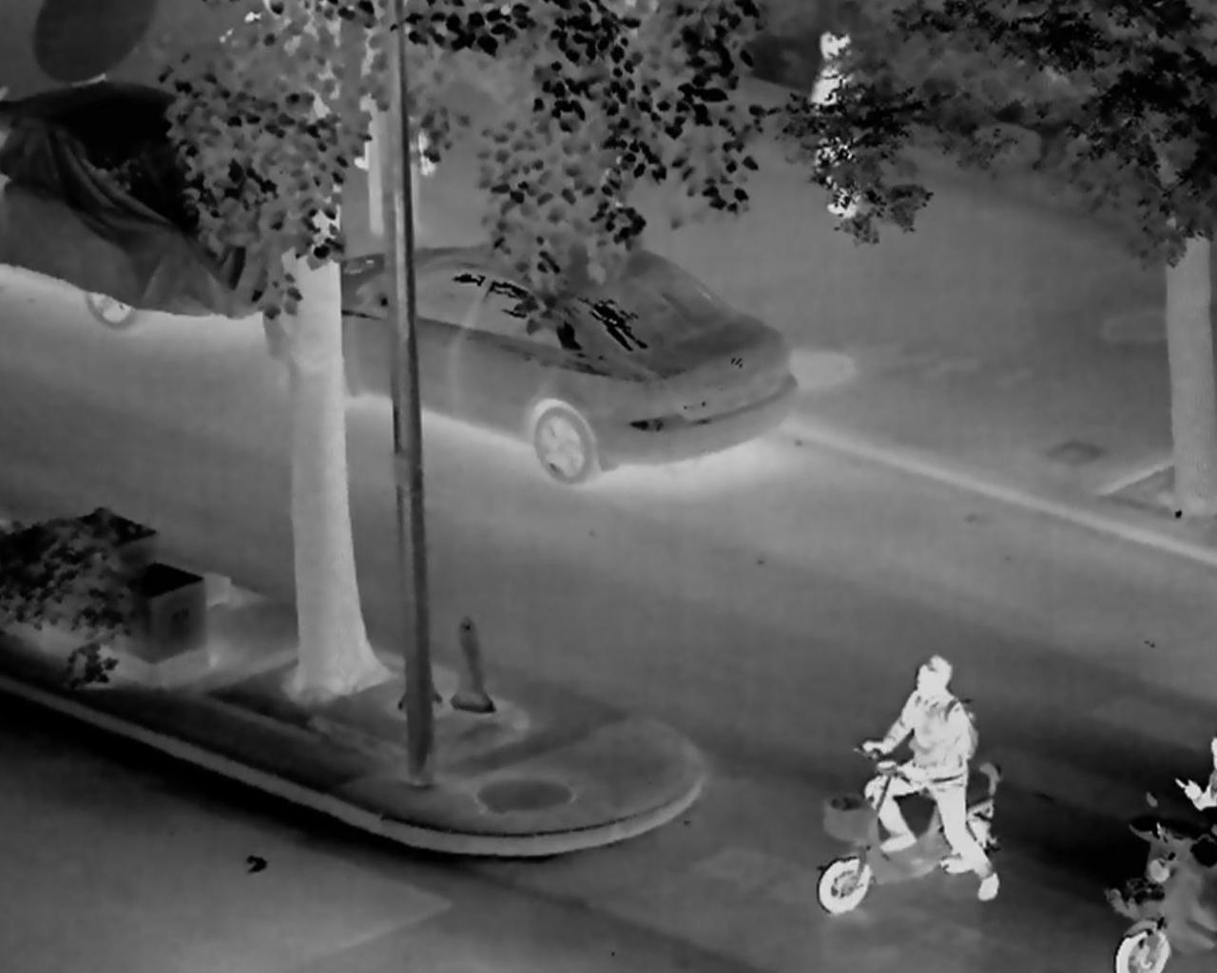person: (863, 654, 1002, 906), (807, 28, 877, 220)
